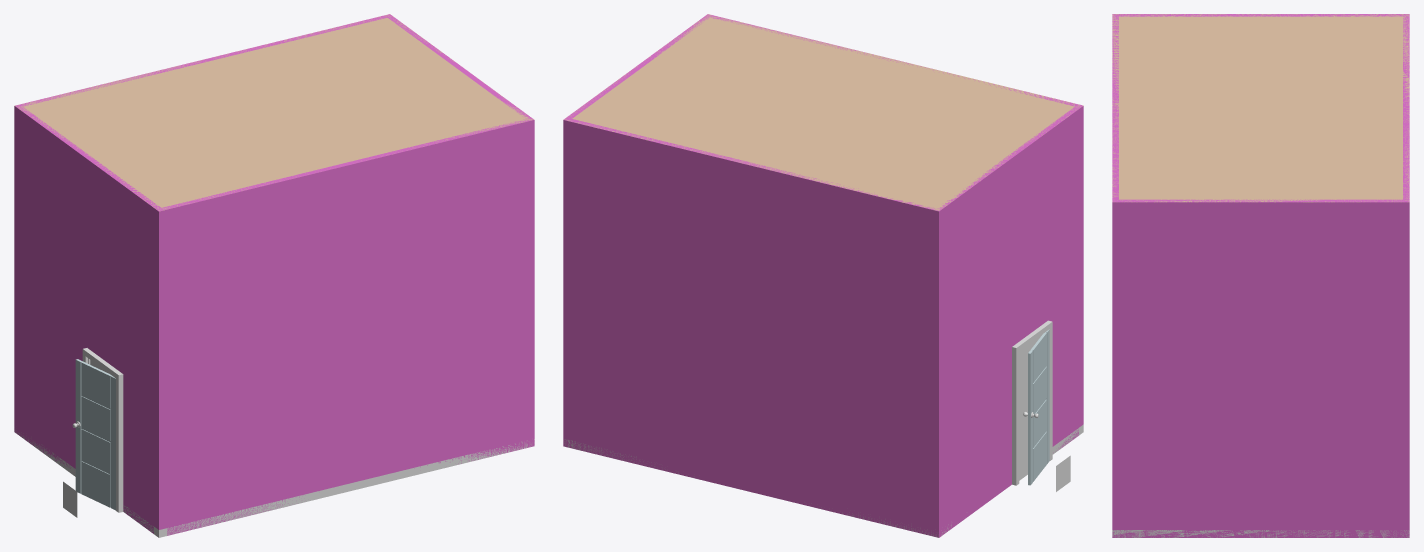
3 views of the same model, side by side, from view 1: azimuth 30°, elevation 25°; view 2: azimuth 150°, elevation 25°; view 3: azimuth 270°, elevation 25° (orthographic). The views are drawn at different scales.
Parts seen in each view (by area): view 1: Room, Ceiling, Door, Baseboard, DoorFrame; view 2: Room, Ceiling, Door, DoorFrame, CTRL_Hole; view 3: Room, Ceiling, Baseboard.
Boxes of the visible parts, x1,y1,x2,y2 form: Room: [14, 14, 534, 535]; Ceiling: [15, 14, 533, 211]; Door: [75, 359, 115, 510]; Baseboard: [14, 430, 534, 537]; DoorFrame: [82, 348, 123, 512]; Room: [563, 14, 1083, 537]; Ceiling: [564, 14, 1083, 210]; Door: [1028, 329, 1049, 485]; DoorFrame: [1012, 320, 1052, 485]; CTRL_Hole: [1019, 334, 1042, 480]; Room: [1112, 14, 1409, 537]; Ceiling: [1112, 14, 1409, 202]; Baseboard: [1112, 530, 1409, 537].
Size of the model in its own units: 655 by 508 by 400.
